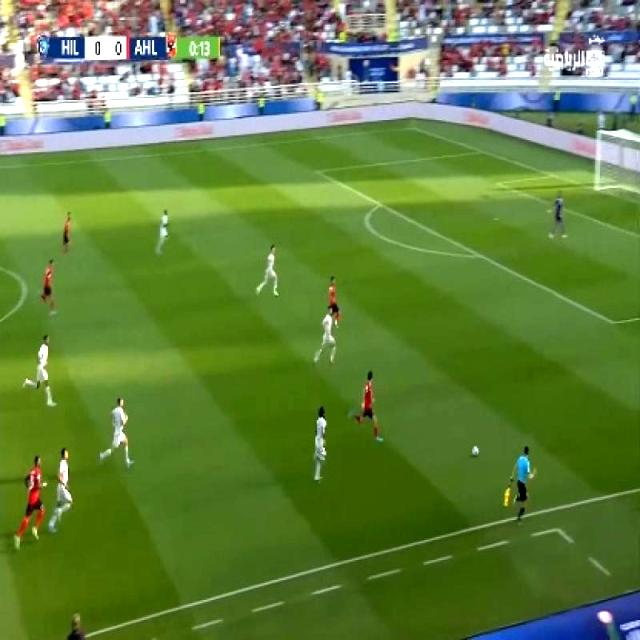bigarea_bottom_inner: (603, 308, 623, 334)
bigarea_top_inner: (311, 162, 326, 178)
bigarea_top_outter: (469, 142, 489, 158)
bottom_arc_area_intersection: (471, 245, 486, 263)
corner: (400, 120, 420, 134)
smallarea_top_inner: (488, 174, 509, 192)
smallarea_top_outter: (542, 166, 558, 184)
top_arc_area_intersection: (368, 192, 389, 214)
